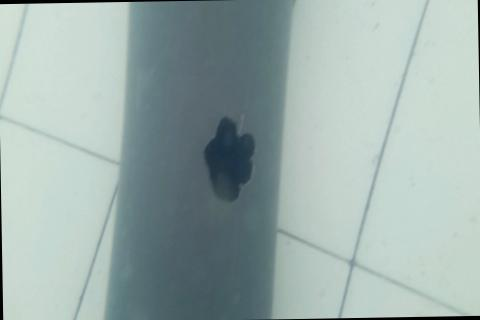kebocoran: (201, 114, 259, 206)
